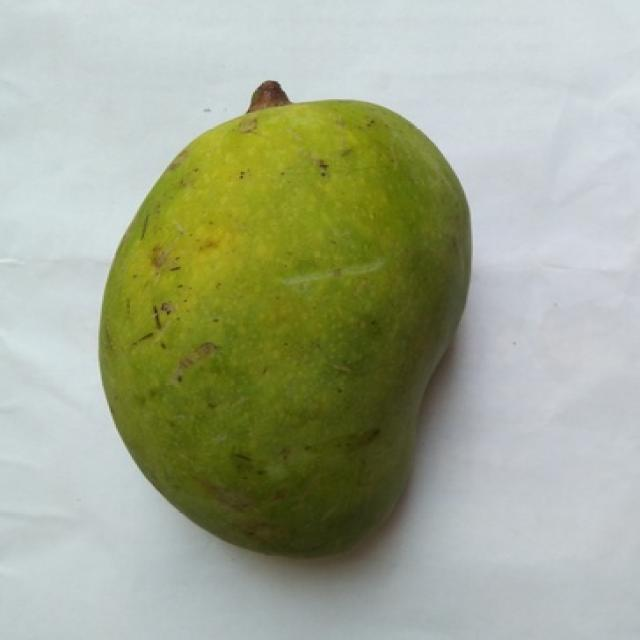Mango: (100, 100, 468, 556)
